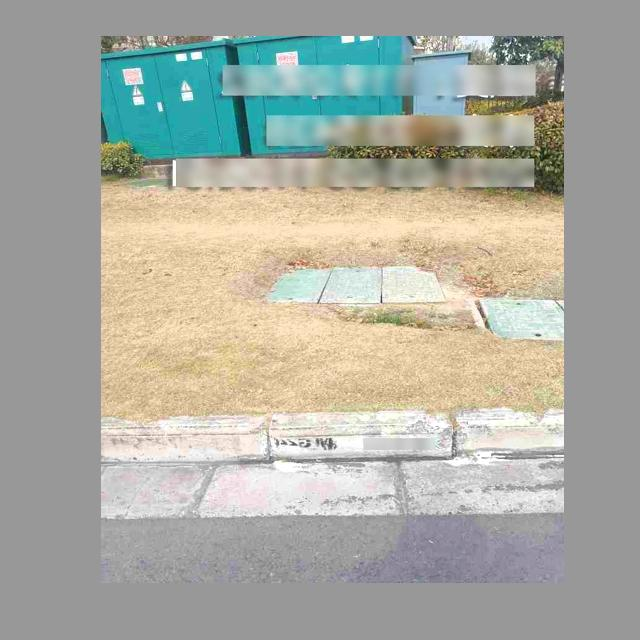good: (264, 261, 447, 305), (468, 297, 564, 340)
